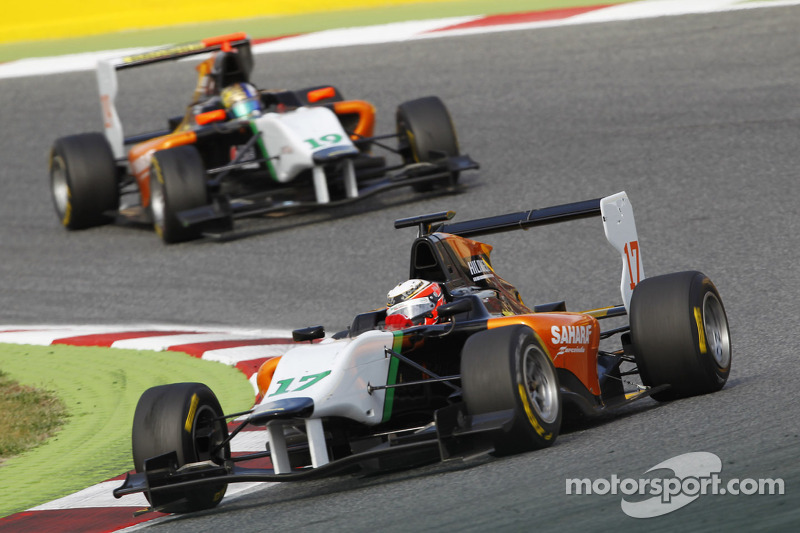race car: (110, 189, 734, 523), (46, 32, 479, 249)
